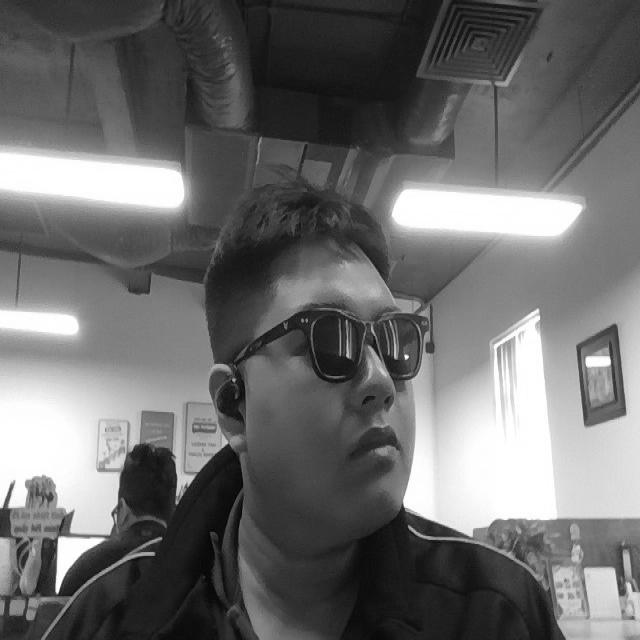fake: (249, 301, 433, 390)
real: (201, 184, 427, 541)
